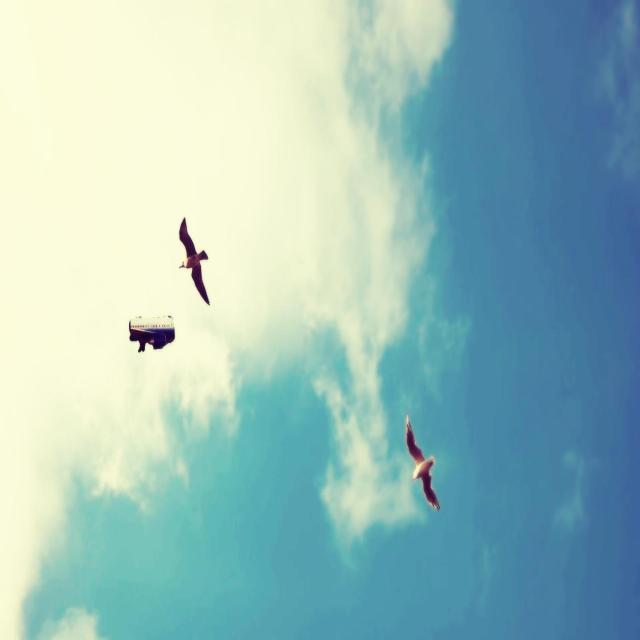airplane: (128, 314, 175, 352)
